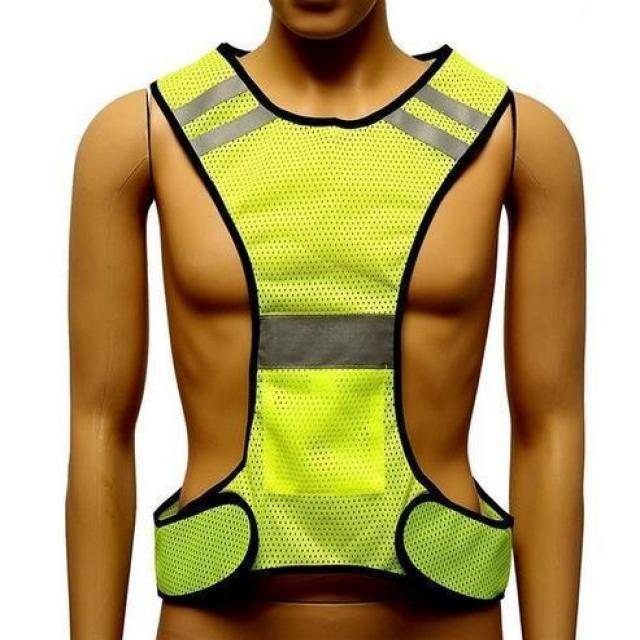Vest: (147, 28, 514, 606)
